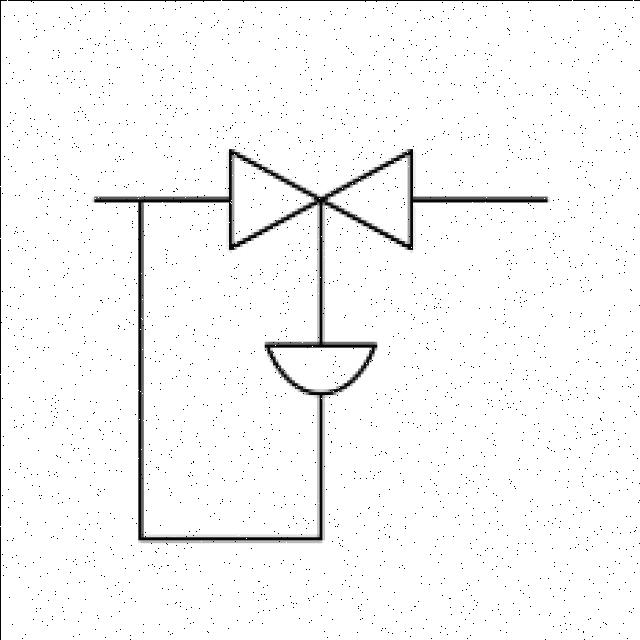Pneumatic-Diaphragm Gate Valve: (225, 144, 414, 392)
